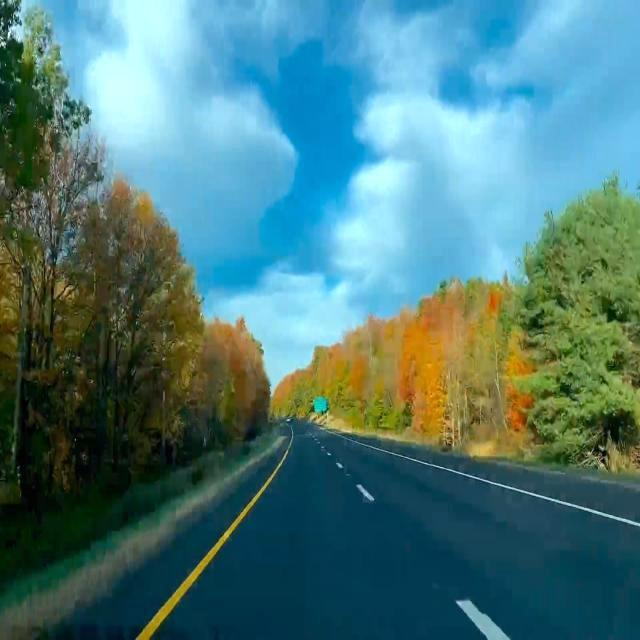road: (153, 422, 639, 639), (43, 457, 275, 639), (358, 438, 639, 521)
